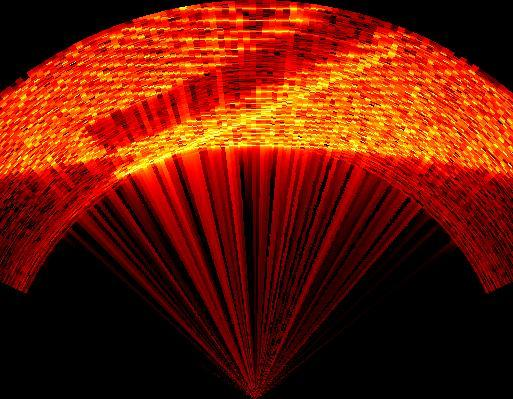pipe: (84, 10, 386, 152)
